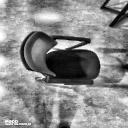chair_success: (24, 32, 100, 82)
